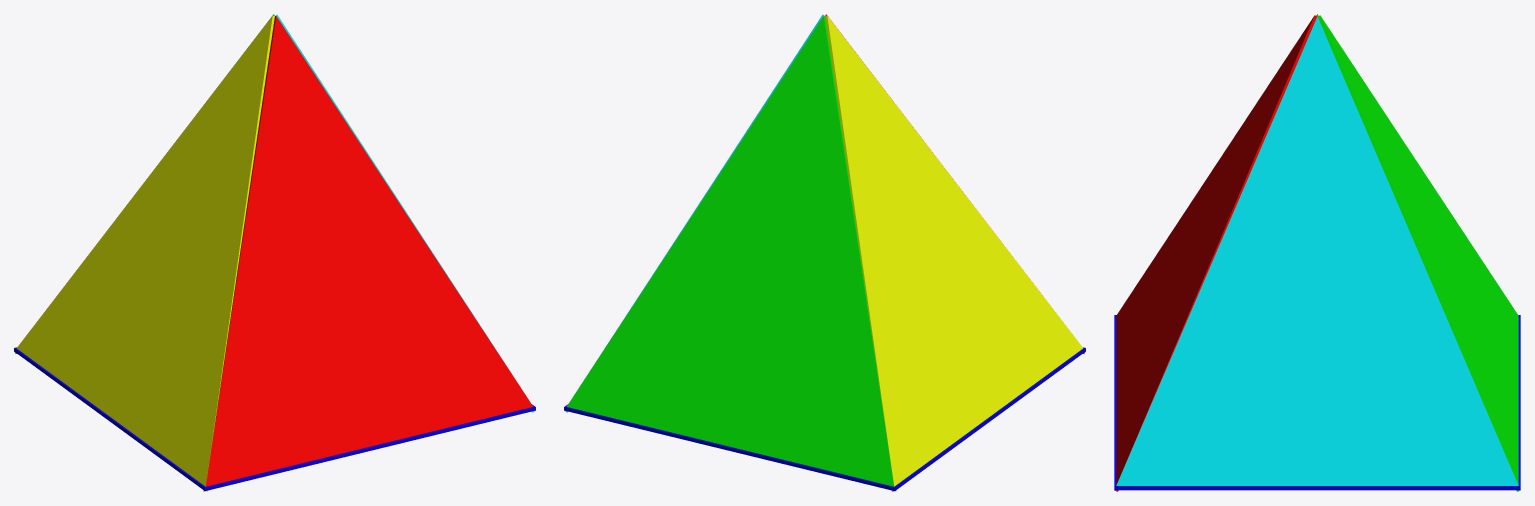
File: piramide_plegado.glb
3 views of the same model, side by side, from view 1: azimuth 30°, elevation 25°; view 2: azimuth 150°, elevation 25°; view 3: azimuth 270°, elevation 25° (orthographic). The views are drawn at different scales.
Parts seen in each view (by area): view 1: verde, rojo, cian, rosa; view 2: azul, rojo, cian, rosa; view 3: rosa, azul, verde, cian.
Part boxes in pixels (box(x1,y1,x2,y2)): verde: box(203, 16, 533, 491); rojo: box(17, 15, 274, 491); cian: box(14, 347, 535, 491); rosa: box(275, 14, 535, 412); azul: box(566, 16, 896, 491); rojo: box(825, 15, 1082, 491); cian: box(564, 347, 1085, 491); rosa: box(564, 14, 824, 412); rosa: box(1116, 16, 1518, 485); azul: box(1317, 15, 1520, 491); verde: box(1114, 15, 1317, 491); cian: box(1114, 315, 1520, 490).
Bounding box in the file's own units: 0.762 × 0.8089 × 0.762.
